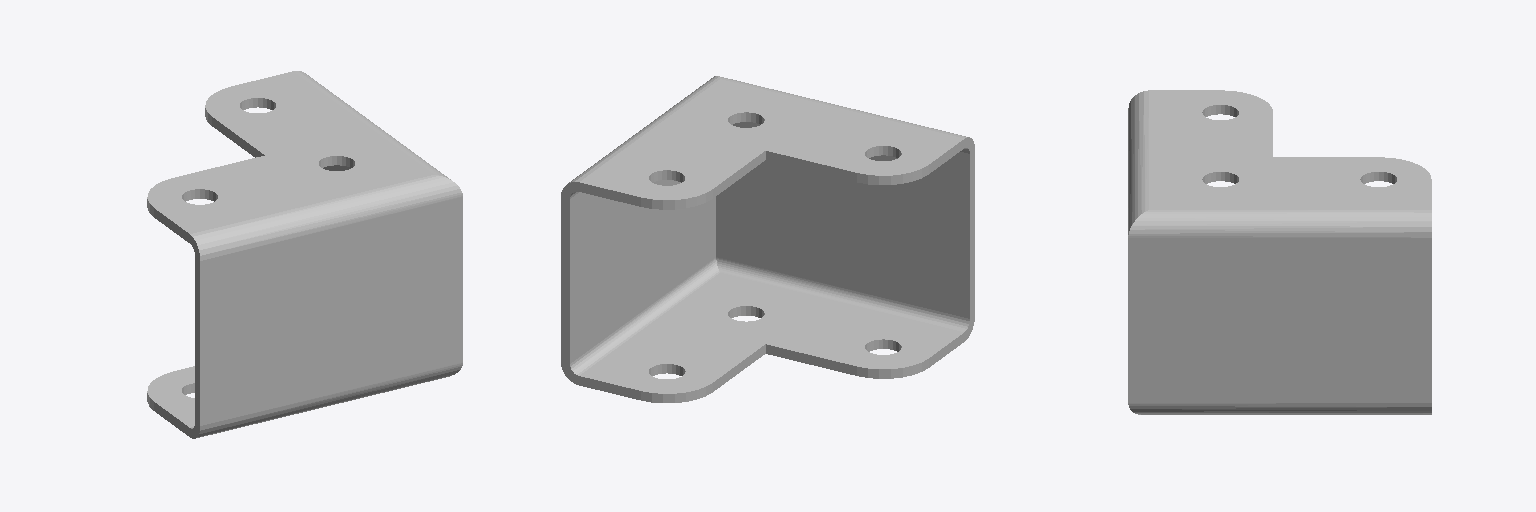
Rendered from B21 (Roof Step) v3 (Stainless Steel).obj.
3 views of the same model, side by side, from view 1: azimuth 30°, elevation 25°; view 2: azimuth 150°, elevation 25°; view 3: azimuth 270°, elevation 25° (orthographic).
Visible parts, largest first — view 1: Body2, Body4; view 2: Body2, Body4; view 3: Body4, Body2.
Part boxes in pixels (bbox=[...]): Body2: bbox=[147, 155, 462, 438]; Body4: bbox=[205, 71, 450, 179]; Body2: bbox=[716, 76, 974, 378]; Body4: bbox=[561, 76, 765, 402]; Body4: bbox=[1128, 157, 1431, 414]; Body2: bbox=[1128, 90, 1272, 234].
Bounding box in the file's own units: 115 × 85 × 115.